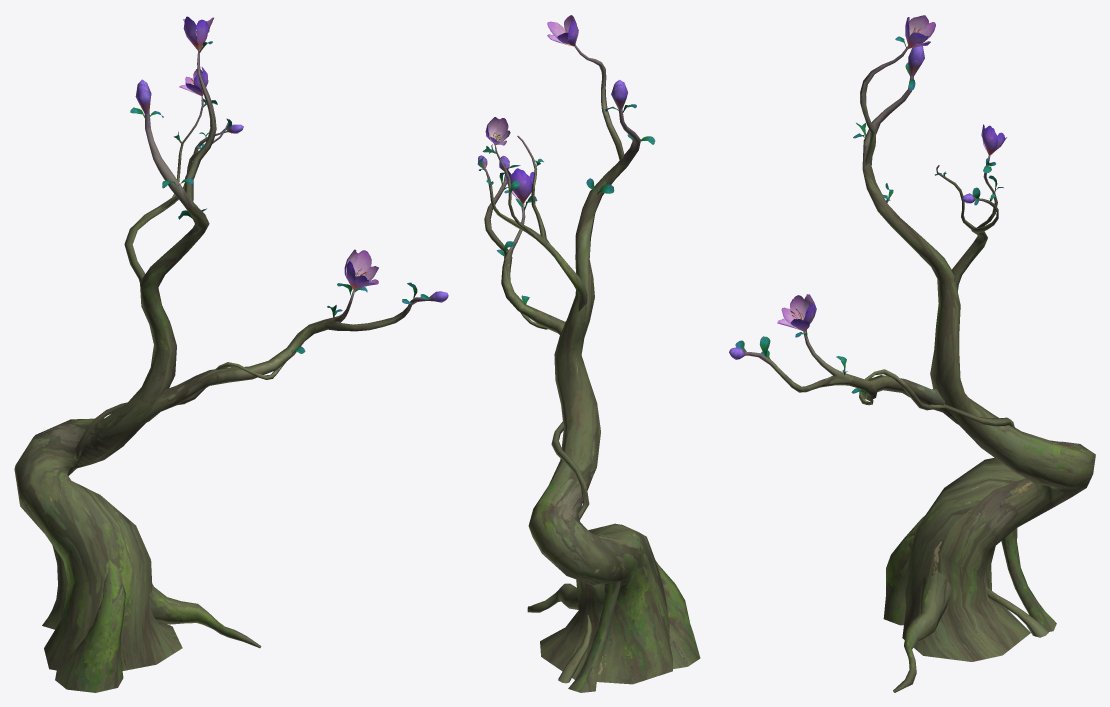
Rendered from Homeworld_Exterior_Xm_Plant_Tree_Cwsmds_01_Lod0.fbx.
The picture shows the model from 3 angles, left to right: view 1: azimuth 30°, elevation 25°; view 2: azimuth 150°, elevation 25°; view 3: azimuth 270°, elevation 25°; orthographic projection. The views are drawn at different scales.
Parts seen in each view (by area): view 1: Area_Xm_Tree_CWSM_Ds_01_Bark_Lod0, Area_Xm_Tree_CWSM_Ds_01_Leaf_Lod0; view 2: Area_Xm_Tree_CWSM_Ds_01_Bark_Lod0, Area_Xm_Tree_CWSM_Ds_01_Leaf_Lod0; view 3: Area_Xm_Tree_CWSM_Ds_01_Bark_Lod0, Area_Xm_Tree_CWSM_Ds_01_Leaf_Lod0.
Part boxes in pixels (x1=…): Area_Xm_Tree_CWSM_Ds_01_Bark_Lod0: x1=14, y1=49, x2=433, y2=692; Area_Xm_Tree_CWSM_Ds_01_Leaf_Lod0: x1=130, y1=16, x2=448, y2=354; Area_Xm_Tree_CWSM_Ds_01_Bark_Lod0: x1=484, y1=45, x2=700, y2=692; Area_Xm_Tree_CWSM_Ds_01_Leaf_Lod0: x1=477, y1=15, x2=655, y2=304; Area_Xm_Tree_CWSM_Ds_01_Bark_Lod0: x1=746, y1=46, x2=1095, y2=692; Area_Xm_Tree_CWSM_Ds_01_Leaf_Lod0: x1=729, y1=15, x2=1006, y2=395.
Bounding box in the file's own units: 3.97 × 8.22 × 4.19.
2 materials, 2 textured.
